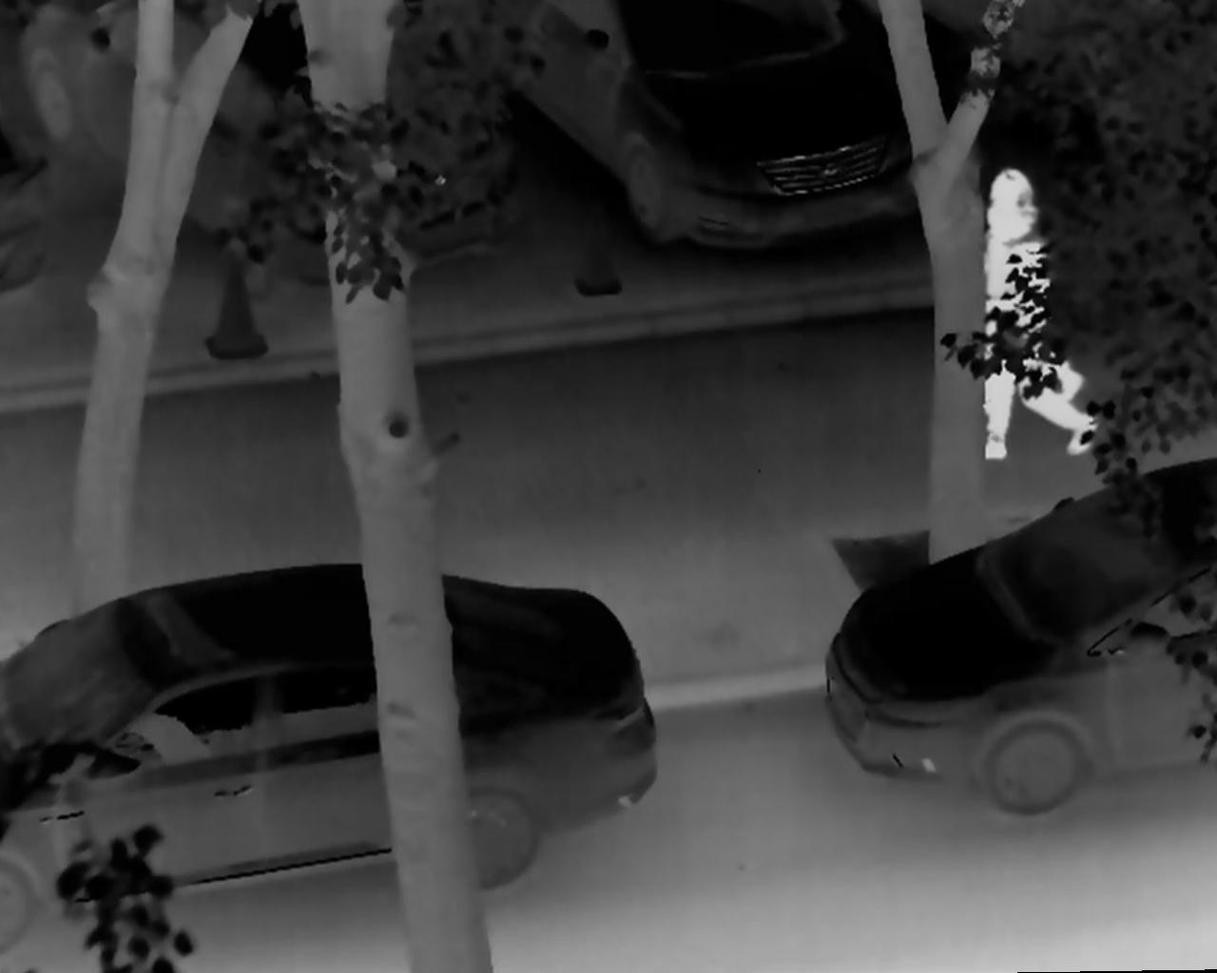person: (958, 162, 1098, 419), (979, 202, 1100, 469)
